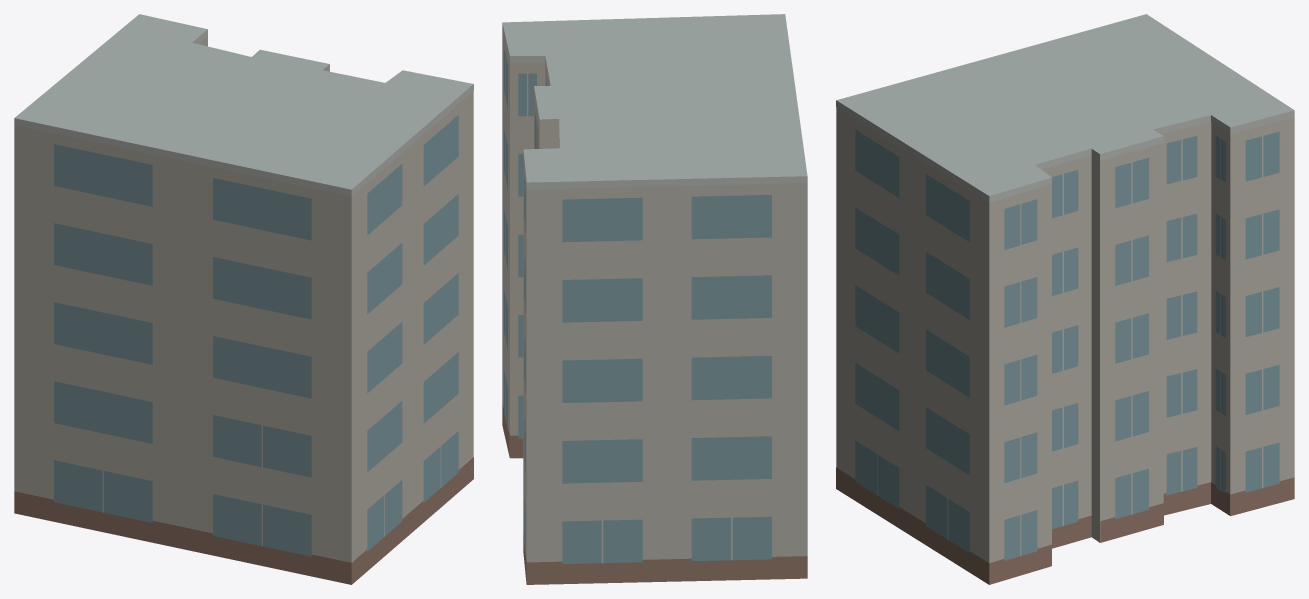
File: survey-upis-32756879.glb
3 views of the same model, side by side, from view 1: azimuth 30°, elevation 25°; view 2: azimuth 150°, elevation 25°; view 3: azimuth 270°, elevation 25° (orthographic). The views are drawn at different scales.
Visible parts, largest first — view 1: survey-upis-32756879.tmp; view 2: survey-upis-32756879.tmp; view 3: survey-upis-32756879.tmp.
Boxes of the visible parts, x1,y1,x2,y2 form: survey-upis-32756879.tmp: [14, 14, 473, 584]; survey-upis-32756879.tmp: [502, 14, 807, 584]; survey-upis-32756879.tmp: [836, 14, 1294, 584].
Size of the model in its own units: 14.18 by 14.1 by 15.08.
